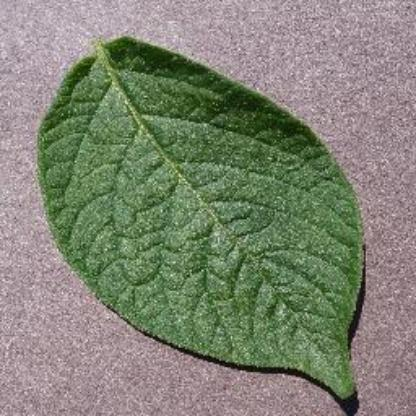Healthy-plant: (36, 33, 376, 402)
